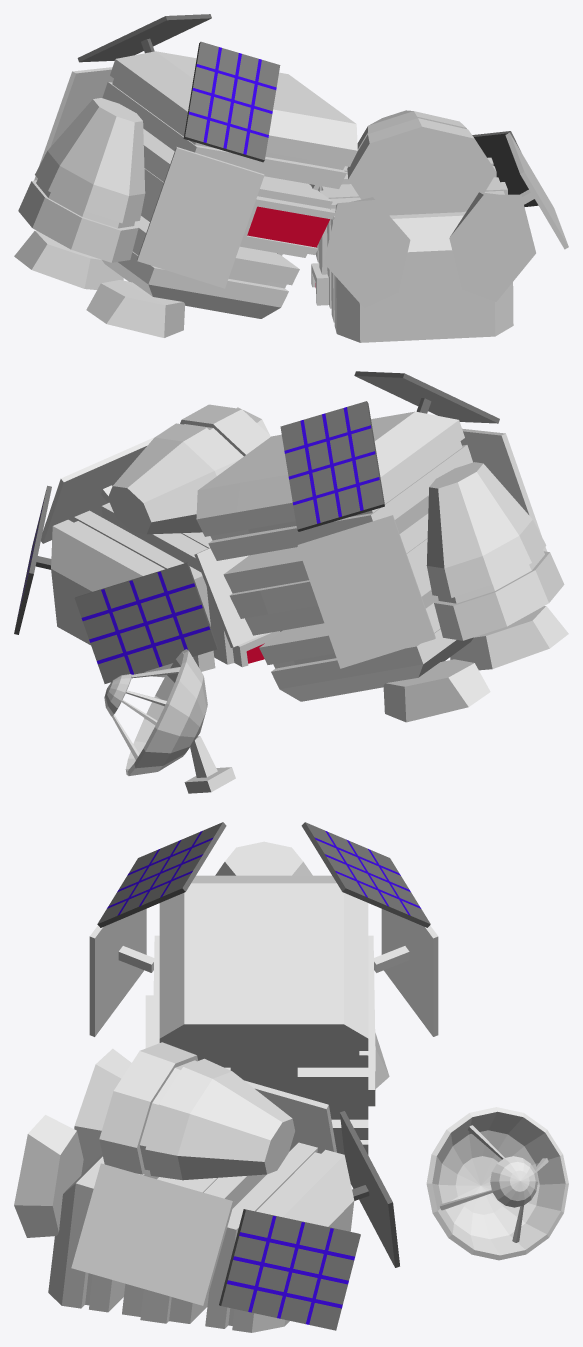
The model's file is MachinaBrokenF.fbx.
3 views of the same model, one above another, from view 1: azimuth 30°, elevation 25°; view 2: azimuth 150°, elevation 25°; view 3: azimuth 270°, elevation 25° (orthographic). The views are drawn at different scales.
Parts seen in each view (by area): view 1: Cube.004; view 2: Cube.004; view 3: Cube.004.
Part boxes in pixels (x1,y1,x2,y2): Cube.004: [14, 14, 568, 342]; Cube.004: [14, 371, 568, 793]; Cube.004: [14, 822, 568, 1332].
Size of the model in its own units: 589 by 367 by 487.
